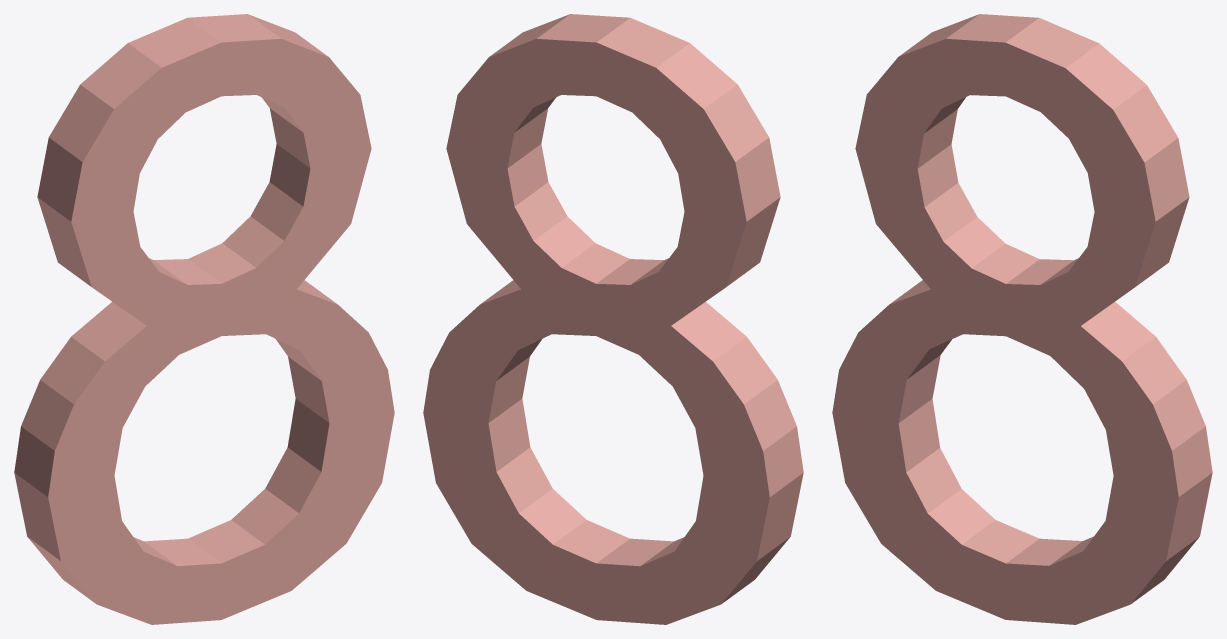
Rendered from tsifa7.fbx.
The picture shows the model from 3 angles, left to right: view 1: azimuth 30°, elevation 25°; view 2: azimuth 150°, elevation 25°; view 3: azimuth 330°, elevation 25°; orthographic projection.
Parts seen in each view (by area): view 1: Extrude_10; view 2: Extrude_10; view 3: Extrude_10.
Boxes of the visible parts, box(x1,y1,x2,y2) form: Extrude_10: box(14, 14, 394, 624); Extrude_10: box(423, 14, 803, 624); Extrude_10: box(832, 14, 1212, 624).
Bounding box in the file's own units: 5.9 × 9.4 × 1.
